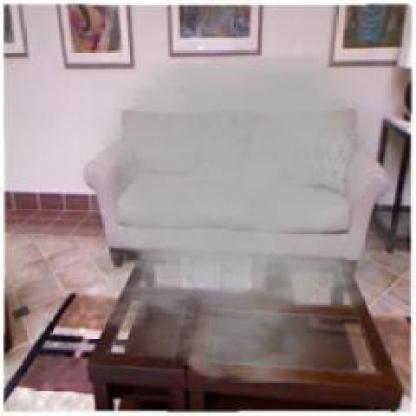Smoke: (43, 36, 406, 383)
